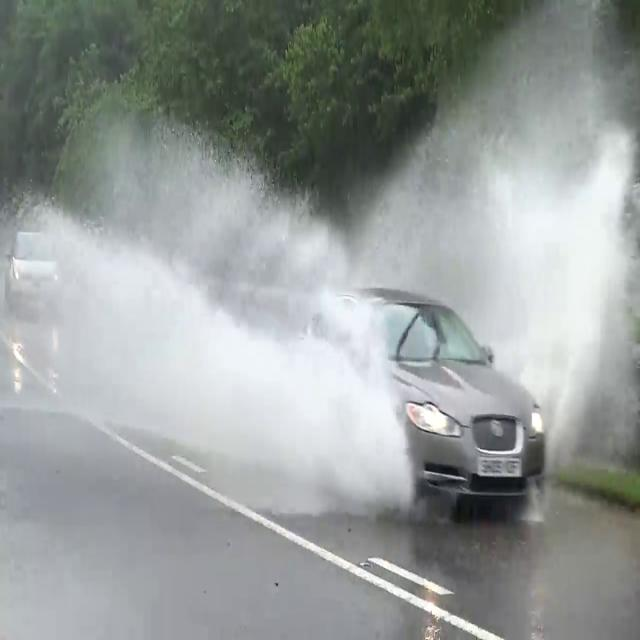license-plate-annotation: (476, 452, 524, 480)
